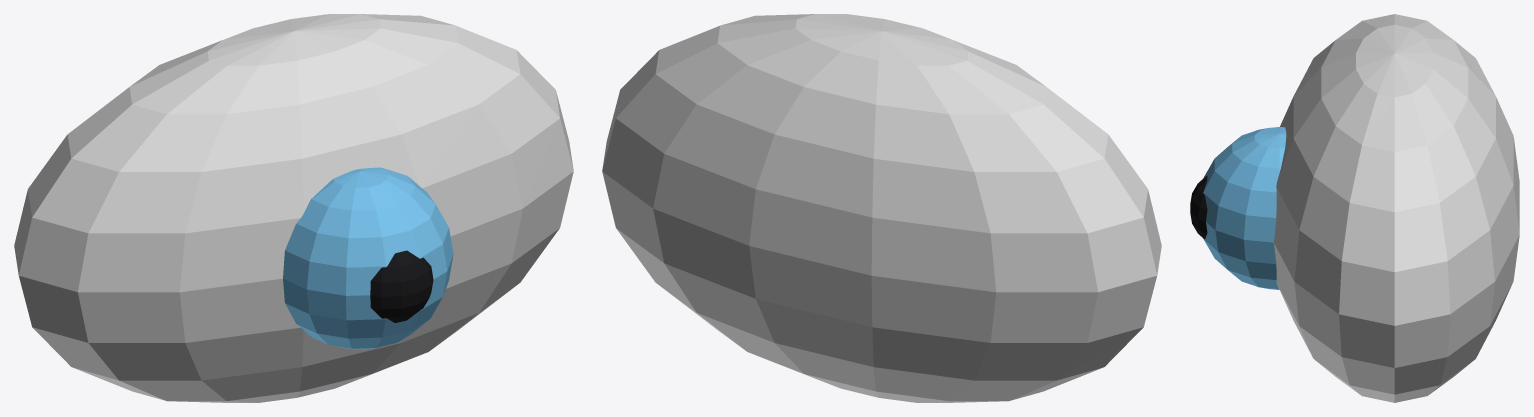
The model's file is Item_AwakeAnyway.obj.
3 renders of one model, left to right at view 1: azimuth 30°, elevation 25°; view 2: azimuth 150°, elevation 25°; view 3: azimuth 270°, elevation 25°, orthographic. The views are drawn at different scales.
Parts seen in each view (by area): view 1: Item_AwakeAnyway; view 2: Item_AwakeAnyway; view 3: Item_AwakeAnyway.
Part boxes in pixels (left/top/right/bottom): Item_AwakeAnyway: left=14, top=14, right=573, bottom=402; Item_AwakeAnyway: left=602, top=14, right=1161, bottom=402; Item_AwakeAnyway: left=1190, top=14, right=1519, bottom=402.
Bounding box in the file's own units: 0.676 × 0.416 × 0.4008.
